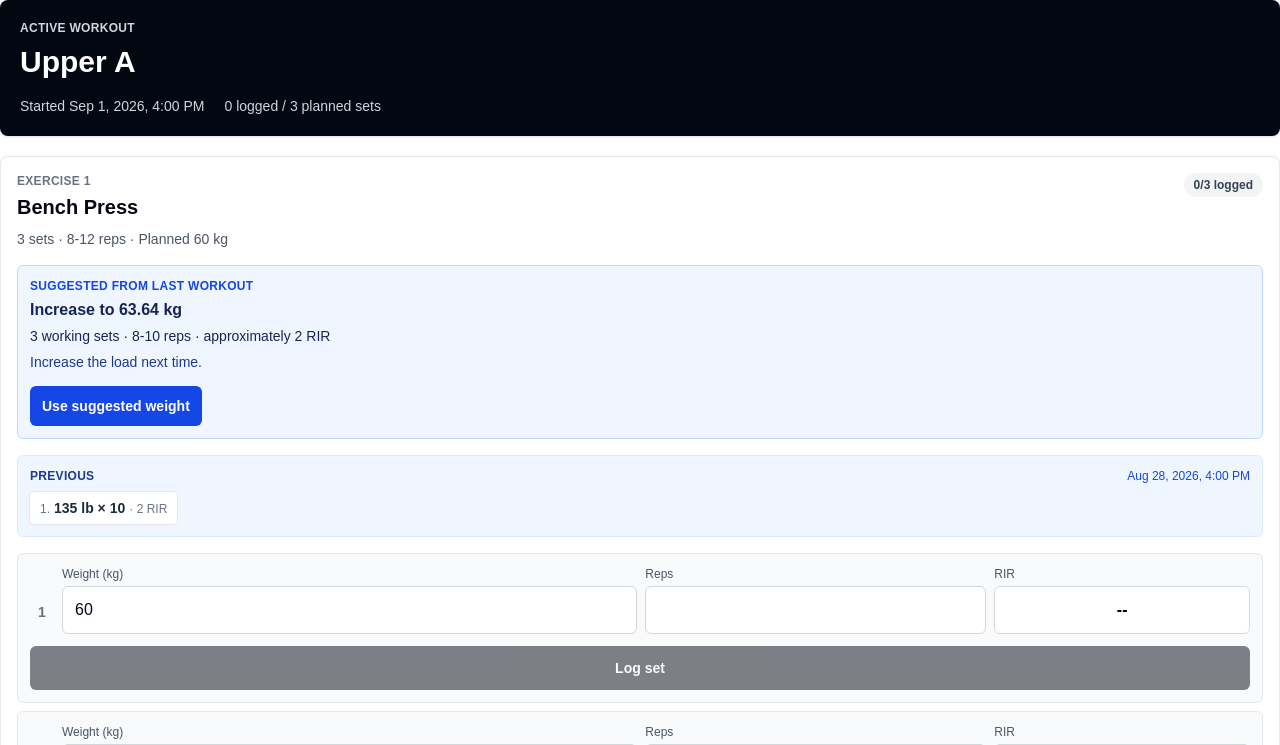
Test: ActiveWorkoutScreen › applies suggested weight in the current kg display unit
The image size is (1280, 745).
Click the button "Use suggested weight" at [116, 406], box [30,386,202,426]
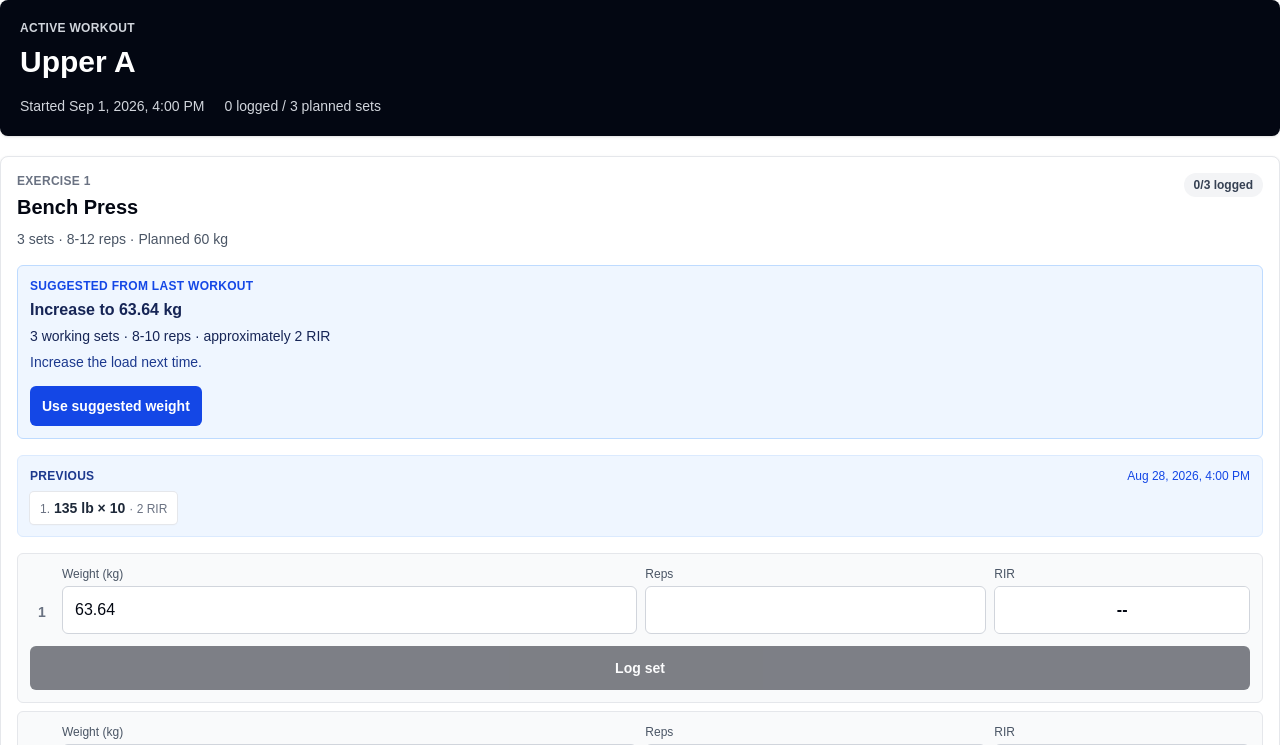
Expected: the 1st number field labelled "Weight (kg)" holds "63.64", [62,586,637,634]
